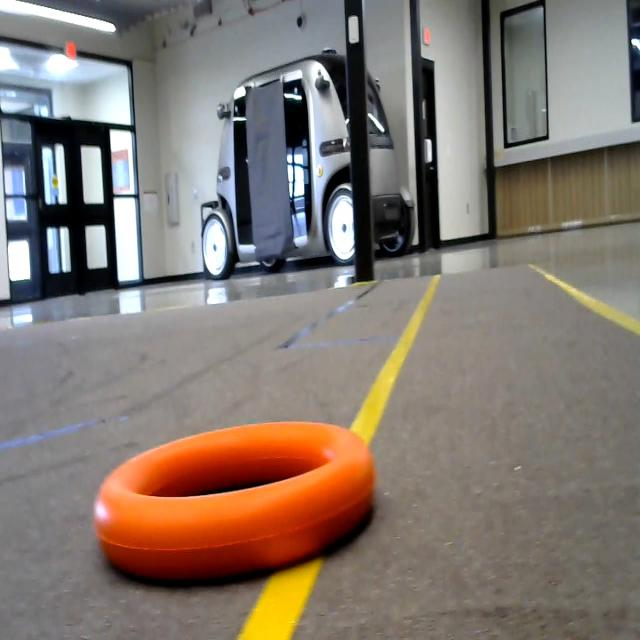note: (82, 417, 390, 575)
